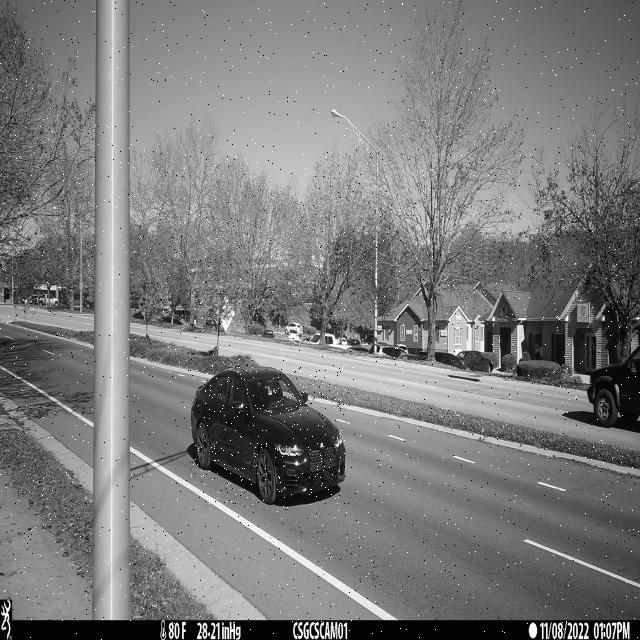Sedan: (190, 365, 345, 505)
